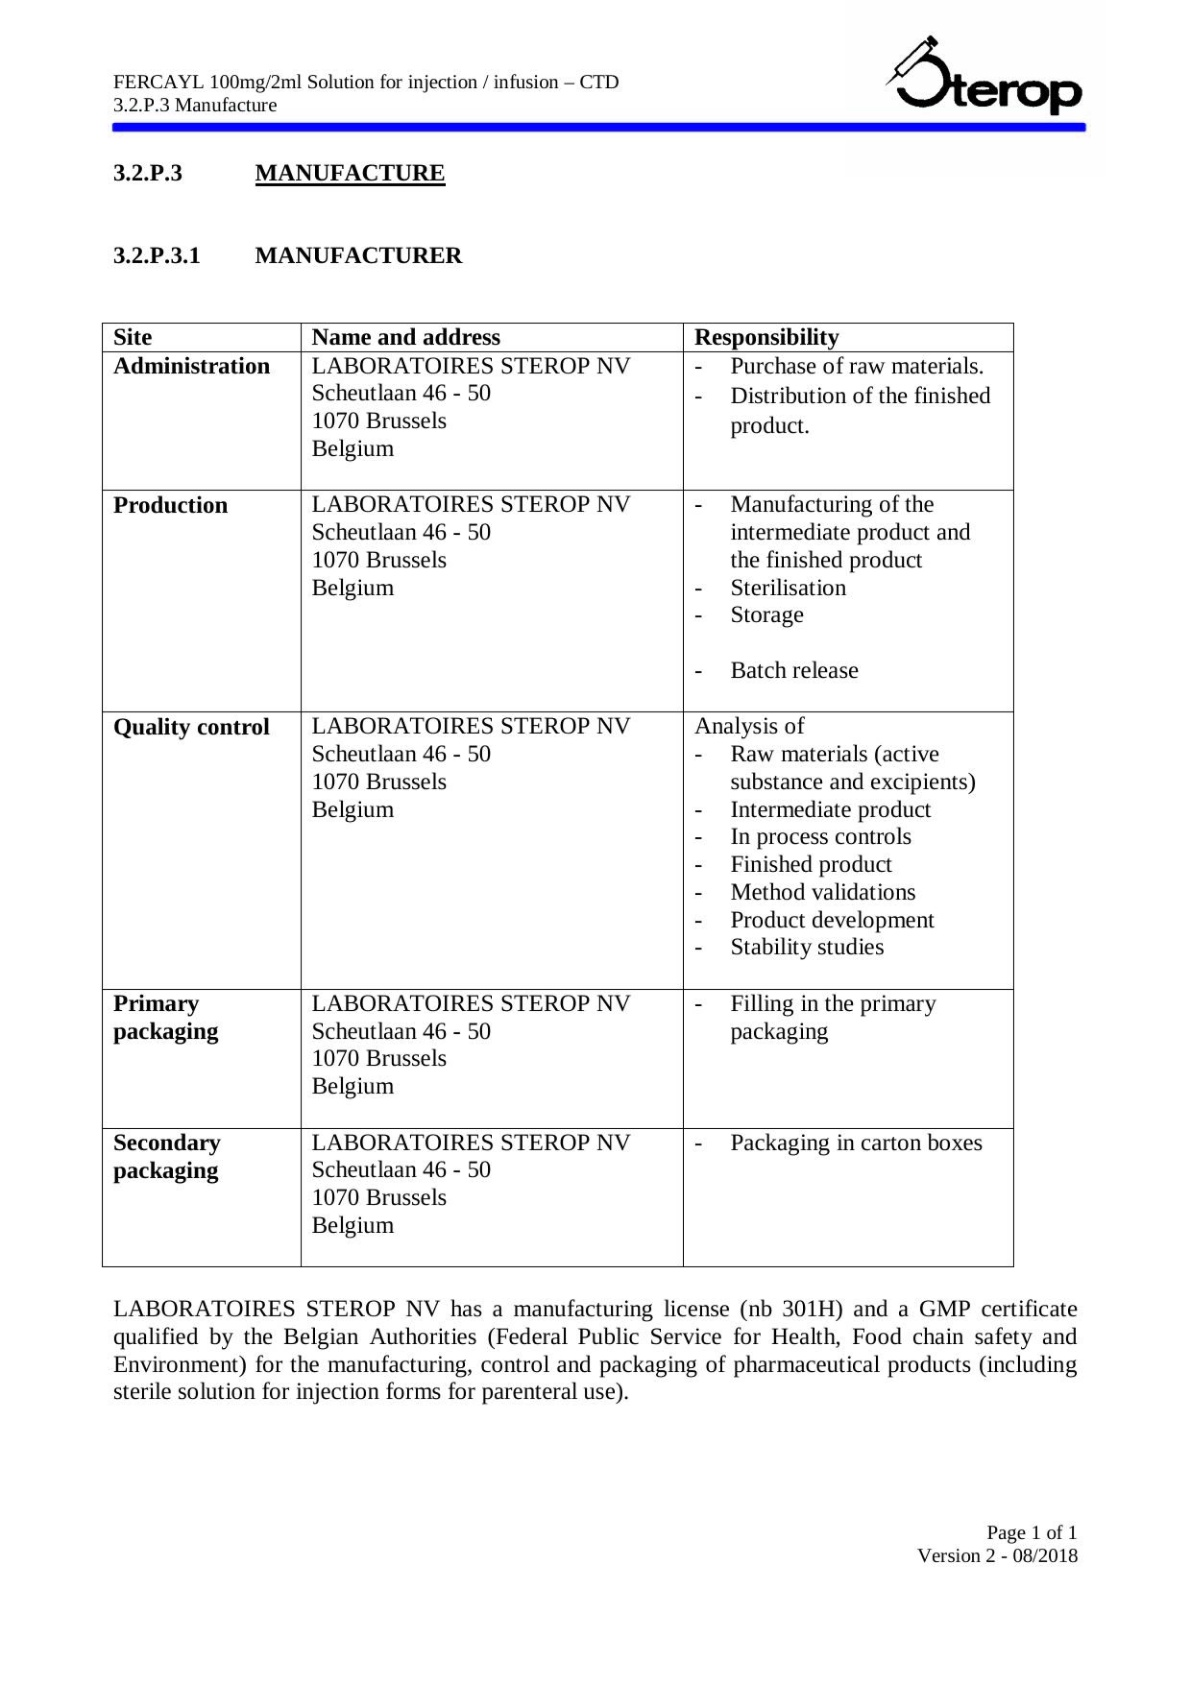full_lined: (103, 321, 1017, 1269)
